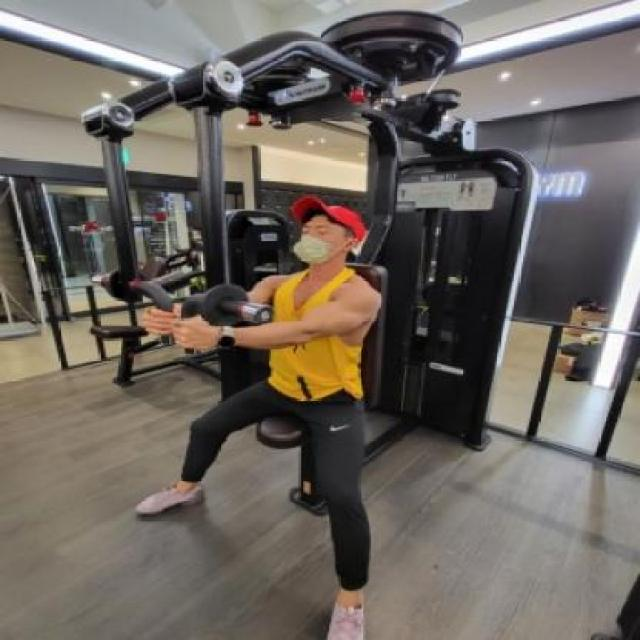chest fly machine: (57, 6, 538, 640)
